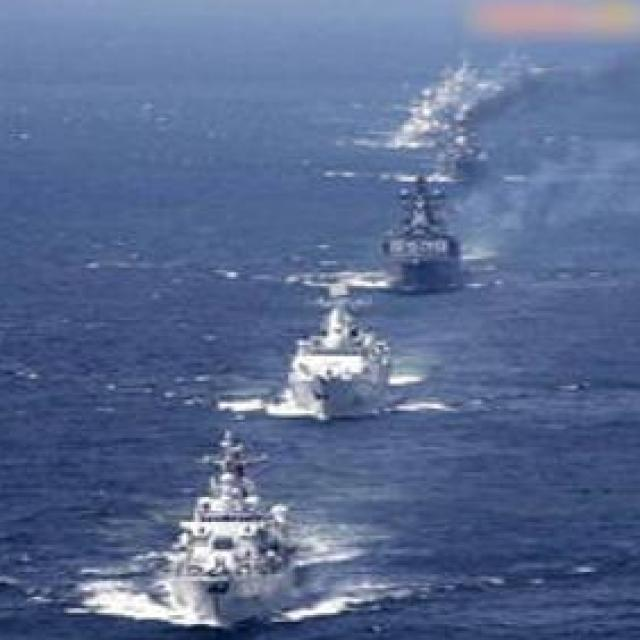navalvessels: (145, 415, 336, 640), (281, 276, 400, 410), (390, 174, 464, 282), (434, 117, 481, 183)
